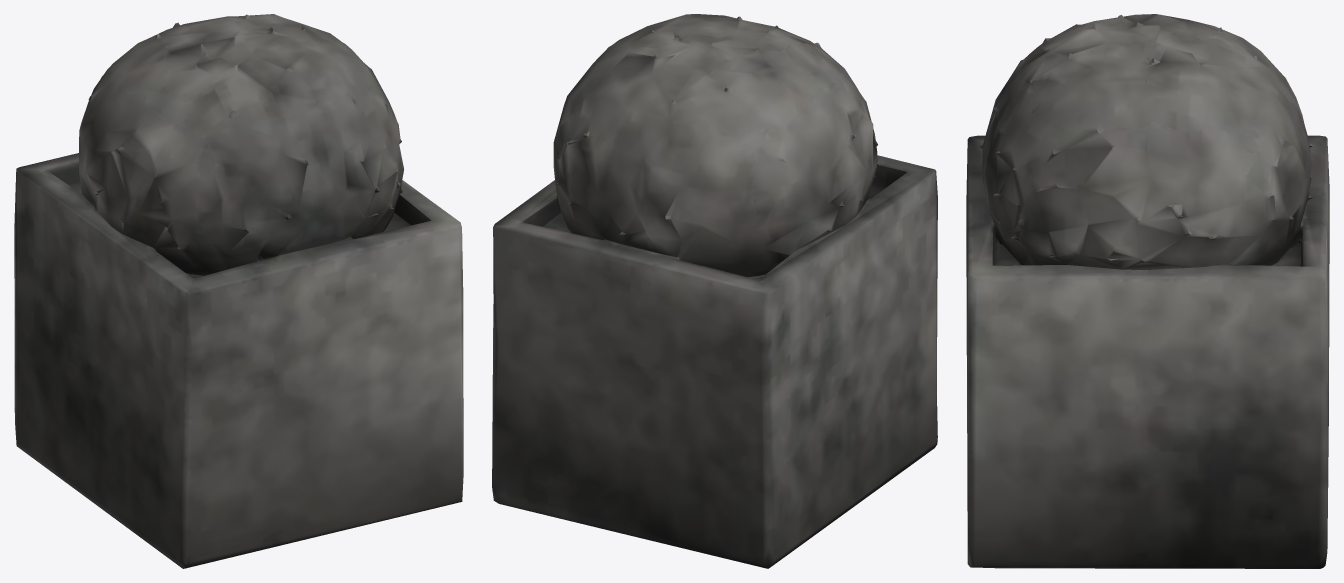
Rendered from weathered-granite-planter-v001.glb.
3 views of the same model, side by side, from view 1: azimuth 30°, elevation 25°; view 2: azimuth 150°, elevation 25°; view 3: azimuth 270°, elevation 25° (orthographic). The views are drawn at different scales.
Visible parts, largest first — view 1: weathered-granite-planter; view 2: weathered-granite-planter; view 3: weathered-granite-planter.
Part boxes in pixels (x1=…): weathered-granite-planter: x1=14, y1=14, x2=463, y2=568; weathered-granite-planter: x1=492, y1=14, x2=937, y2=568; weathered-granite-planter: x1=966, y1=14, x2=1329, y2=568.
Size of the model in its own units: 0.2352 by 0.3498 by 0.2505.
1 material, 1 textured.
